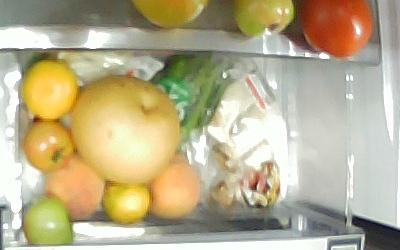peach: (44, 154, 103, 222), (145, 155, 201, 218)
pear: (71, 75, 181, 185)
tangerine: (22, 58, 78, 121), (103, 182, 150, 224)
tomato: (23, 120, 72, 171), (23, 197, 73, 244)
